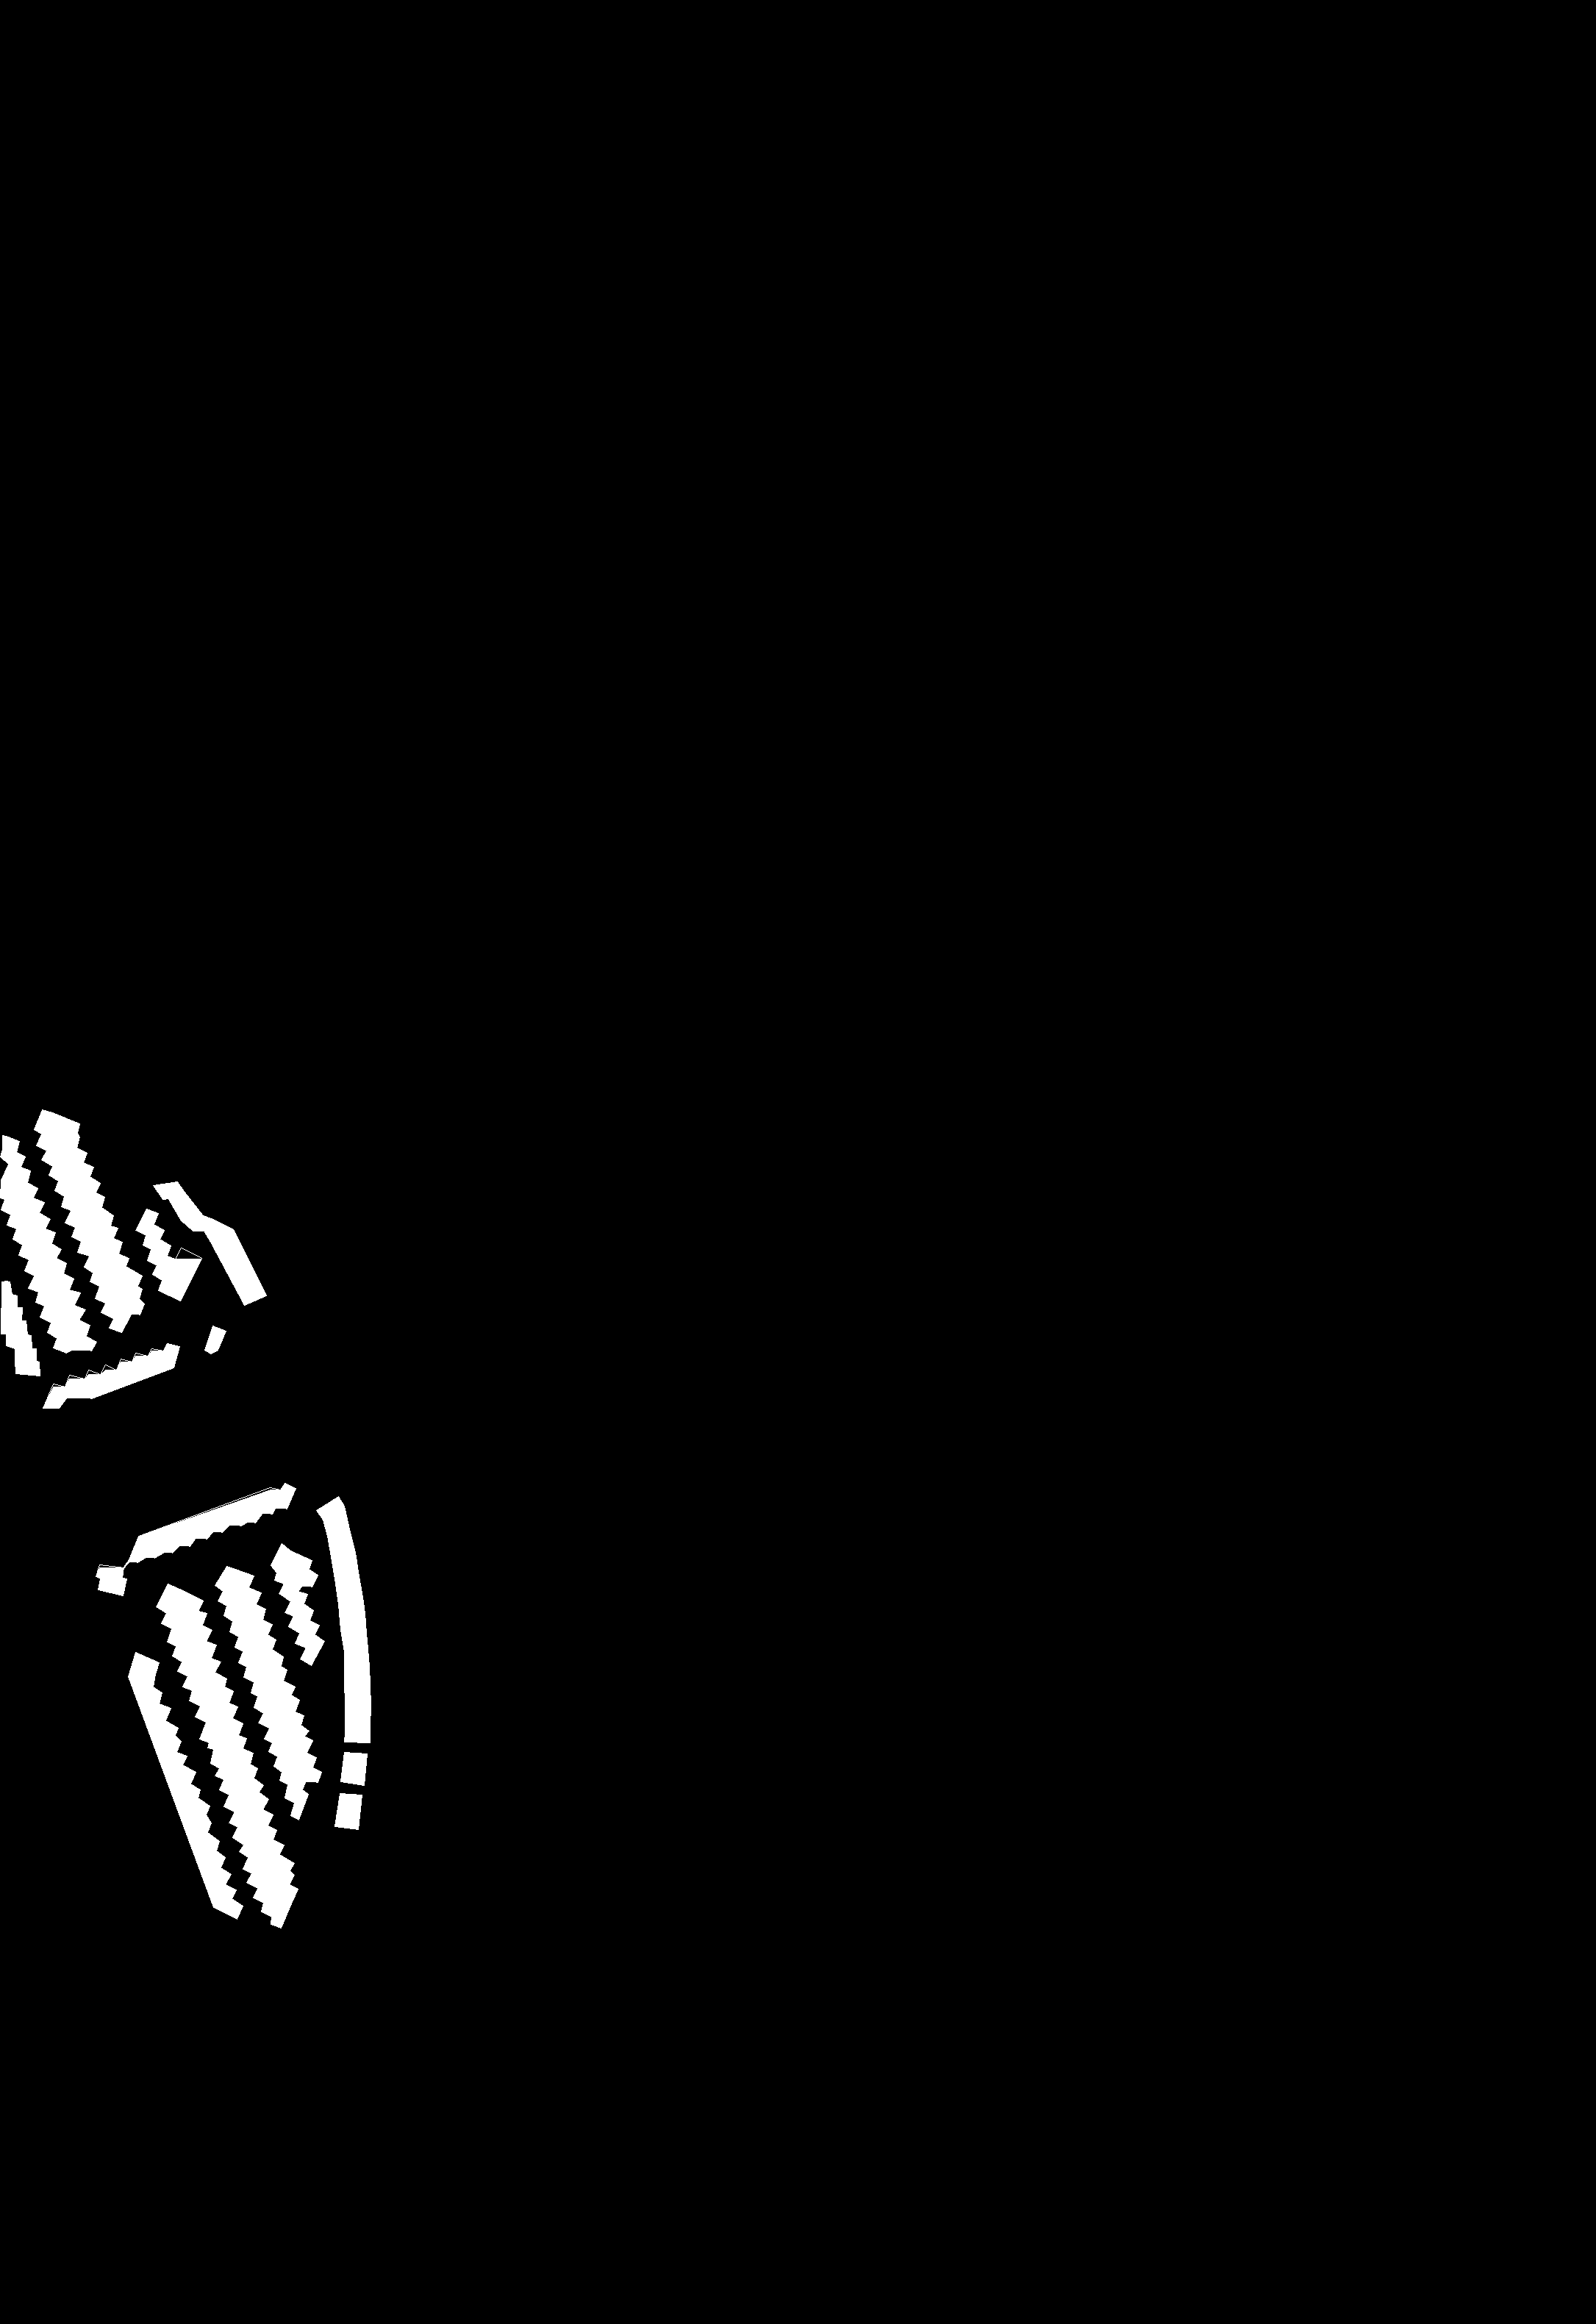parkingspot: (155, 1582, 298, 1928), (127, 1651, 242, 1920), (215, 1566, 321, 1819), (34, 1109, 145, 1332), (95, 1483, 295, 1595), (0, 1136, 97, 1353), (154, 1181, 267, 1305), (316, 1496, 371, 1743), (42, 1344, 180, 1407), (270, 1543, 325, 1665), (136, 1208, 201, 1300), (0, 1280, 39, 1376), (334, 1792, 362, 1830), (341, 1752, 367, 1785), (205, 1326, 226, 1353)
